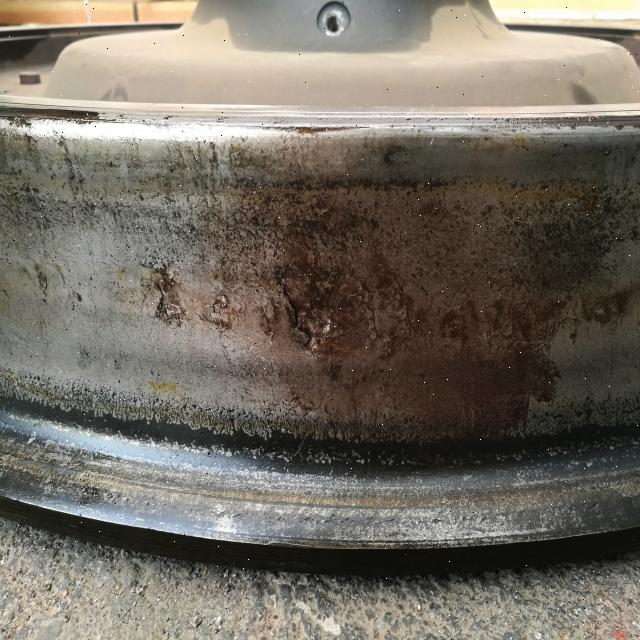boli: (278, 276, 340, 362), (145, 268, 193, 332)
